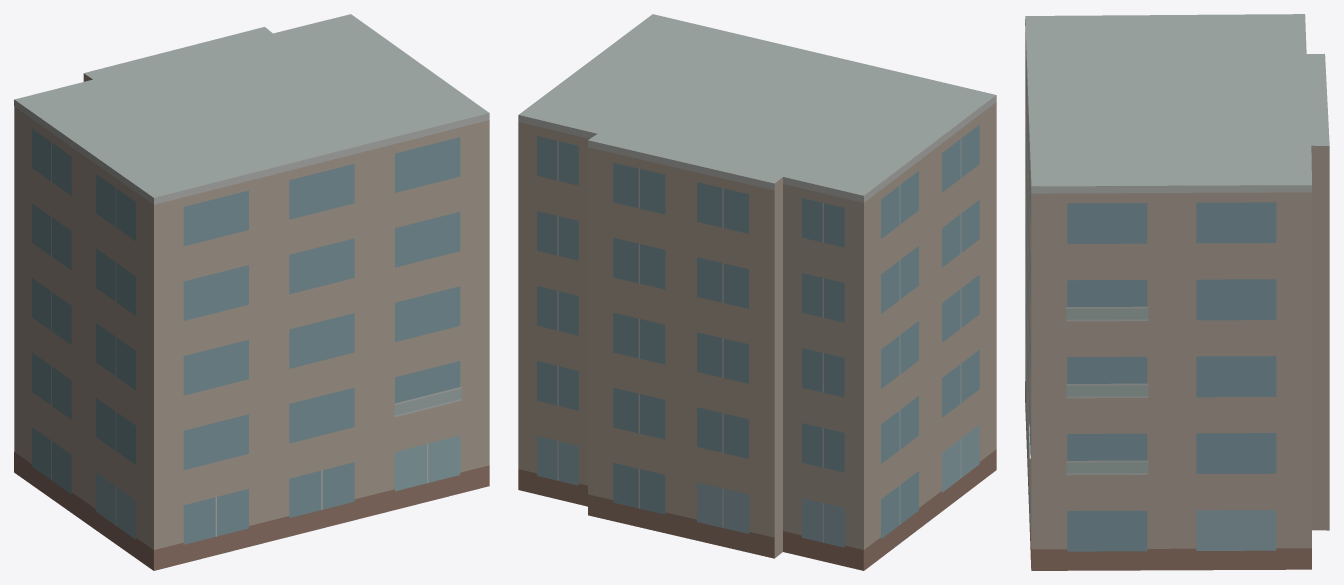
Rendered from survey-upis-32550926.glb.
3 renders of one model, left to right at view 1: azimuth 30°, elevation 25°; view 2: azimuth 150°, elevation 25°; view 3: azimuth 270°, elevation 25°, orthographic. The views are drawn at different scales.
Parts seen in each view (by area): view 1: survey-upis-32550926.tmp; view 2: survey-upis-32550926.tmp; view 3: survey-upis-32550926.tmp.
Part boxes in pixels (x1,y1,x2,y2): survey-upis-32550926.tmp: (14,14,489,570); survey-upis-32550926.tmp: (518,14,996,570); survey-upis-32550926.tmp: (1025,14,1329,570).
Size of the model in its own units: 12.63 by 13.1 by 9.41.
